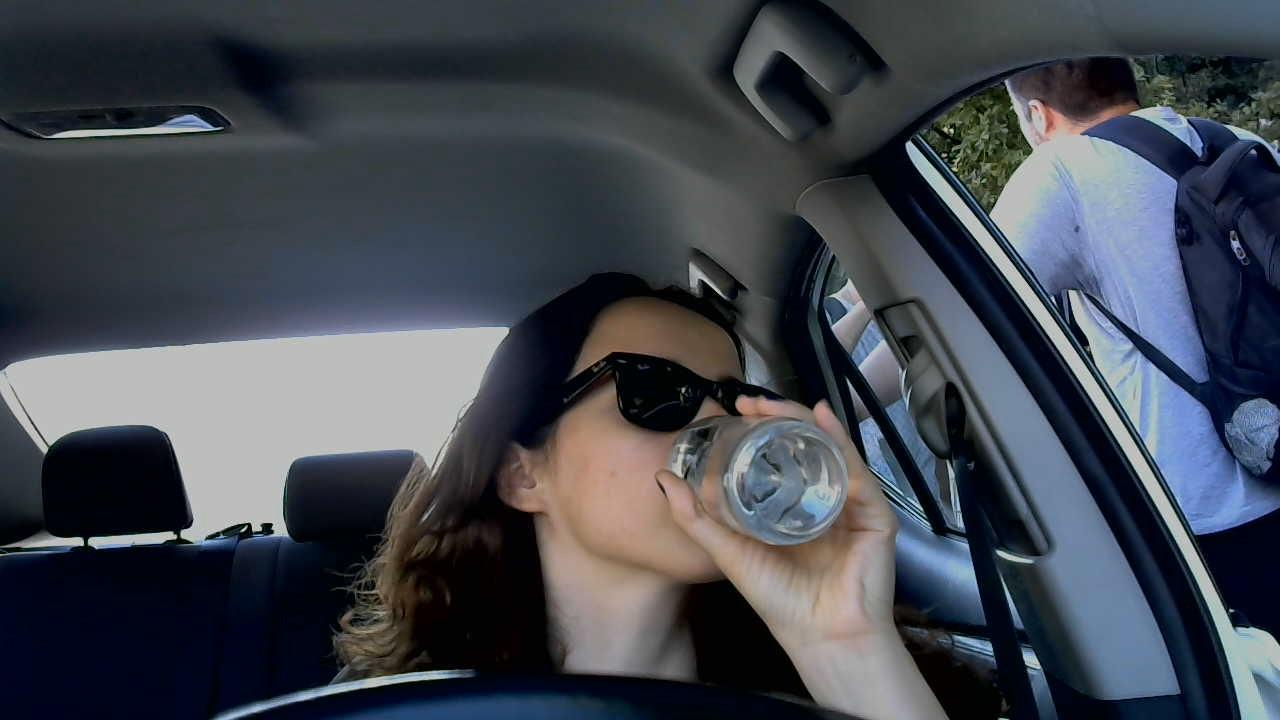Drinking: (497, 298, 856, 605)
